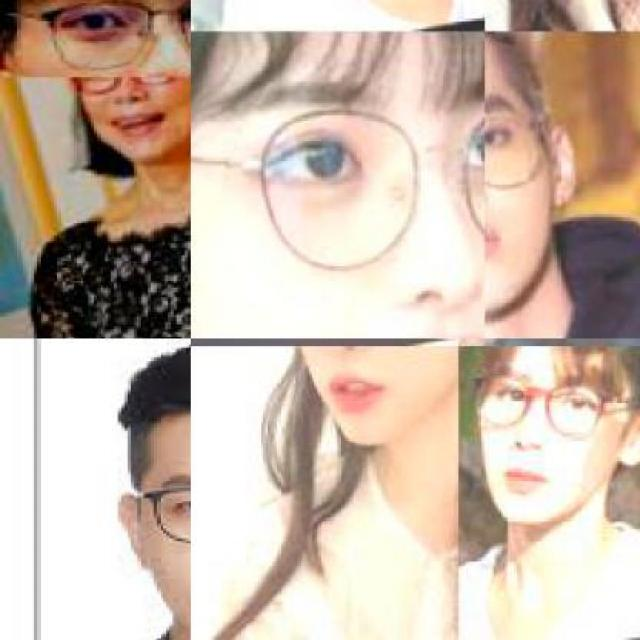glasses: (191, 111, 472, 266), (468, 351, 638, 458), (0, 0, 189, 75), (484, 100, 564, 232), (128, 474, 189, 558), (59, 77, 190, 108)
